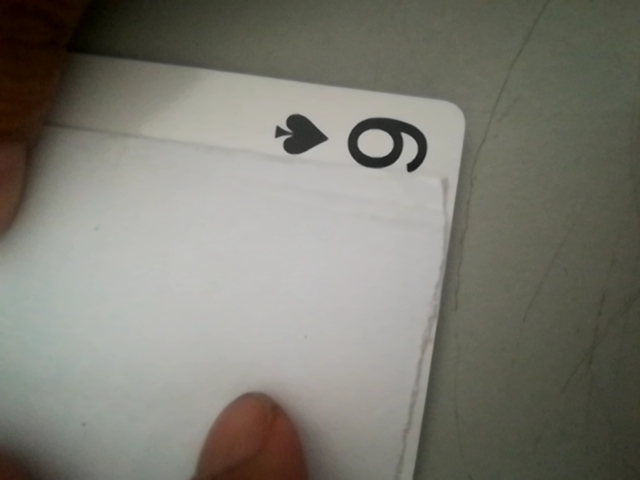ht 6: (256, 101, 445, 182)
